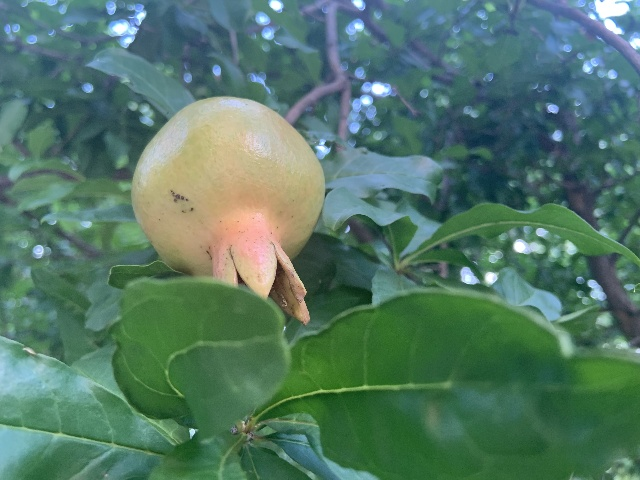mid-growth: (130, 95, 326, 326)
